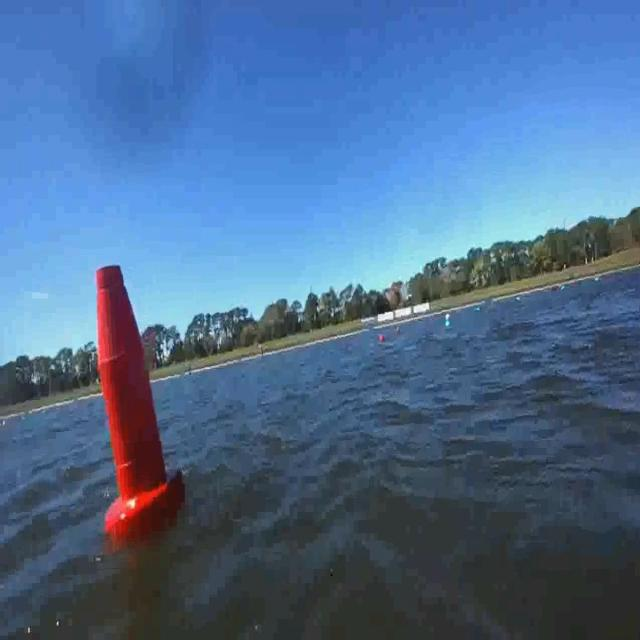red-column-buoy: (95, 260, 188, 534)
